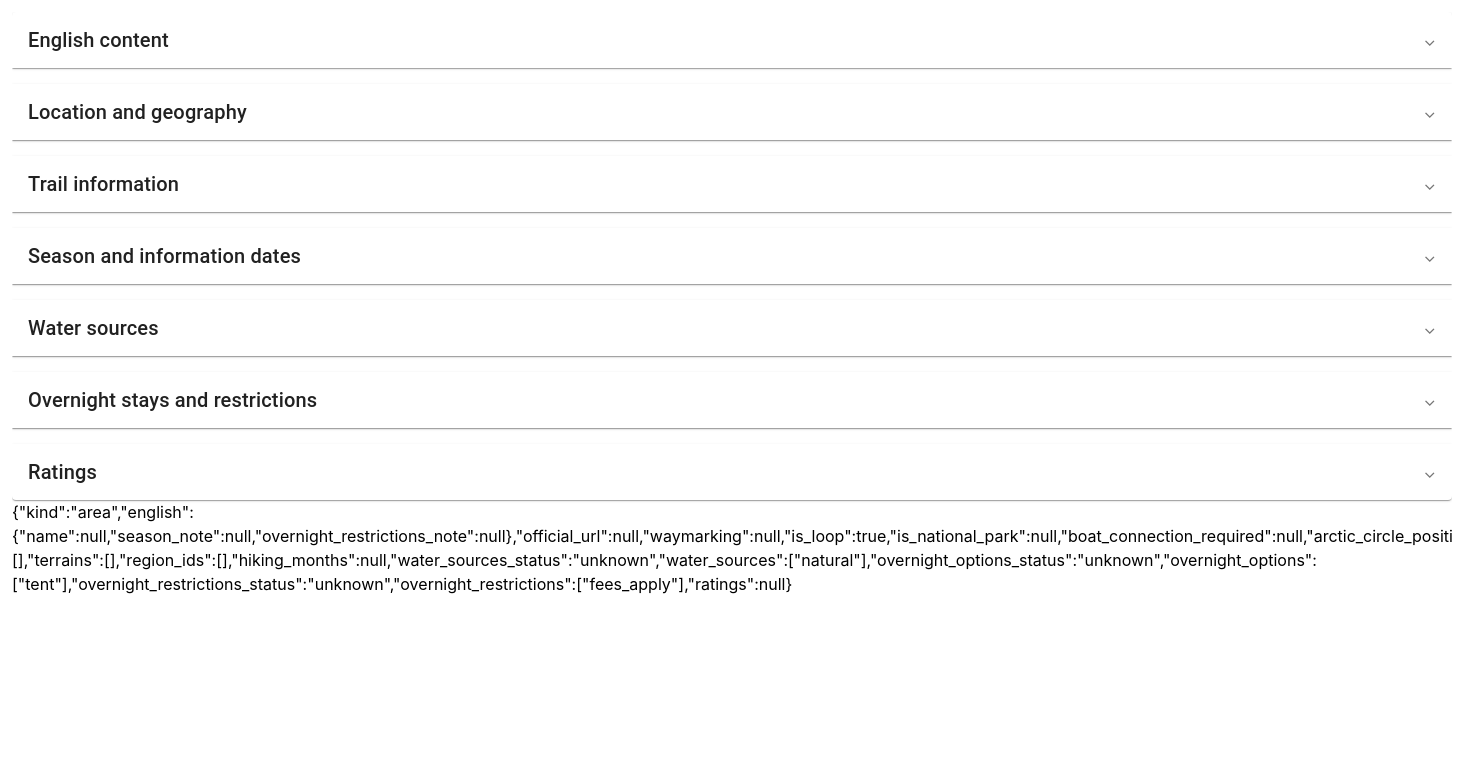
Test: unknown practical information hides options and submission clears invalid dependencies without mutating drafts
This screenshot has width=1464, height=774.
Click the button "Water sources ⌄" at (93, 328), box [12,300,1452,356]
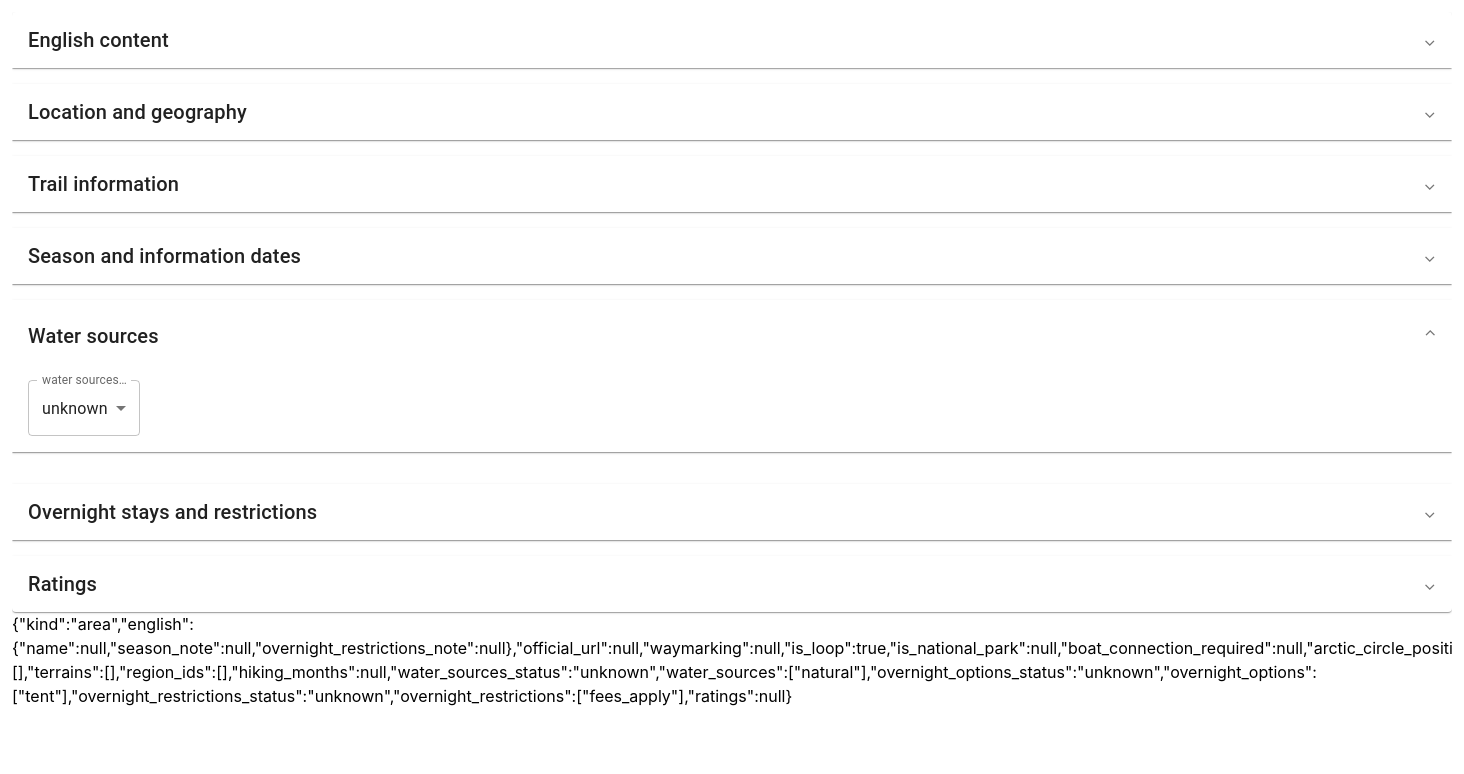
Press the mouse on the dropdown named "water sources status" at (75, 408), box [42,398,108,418]
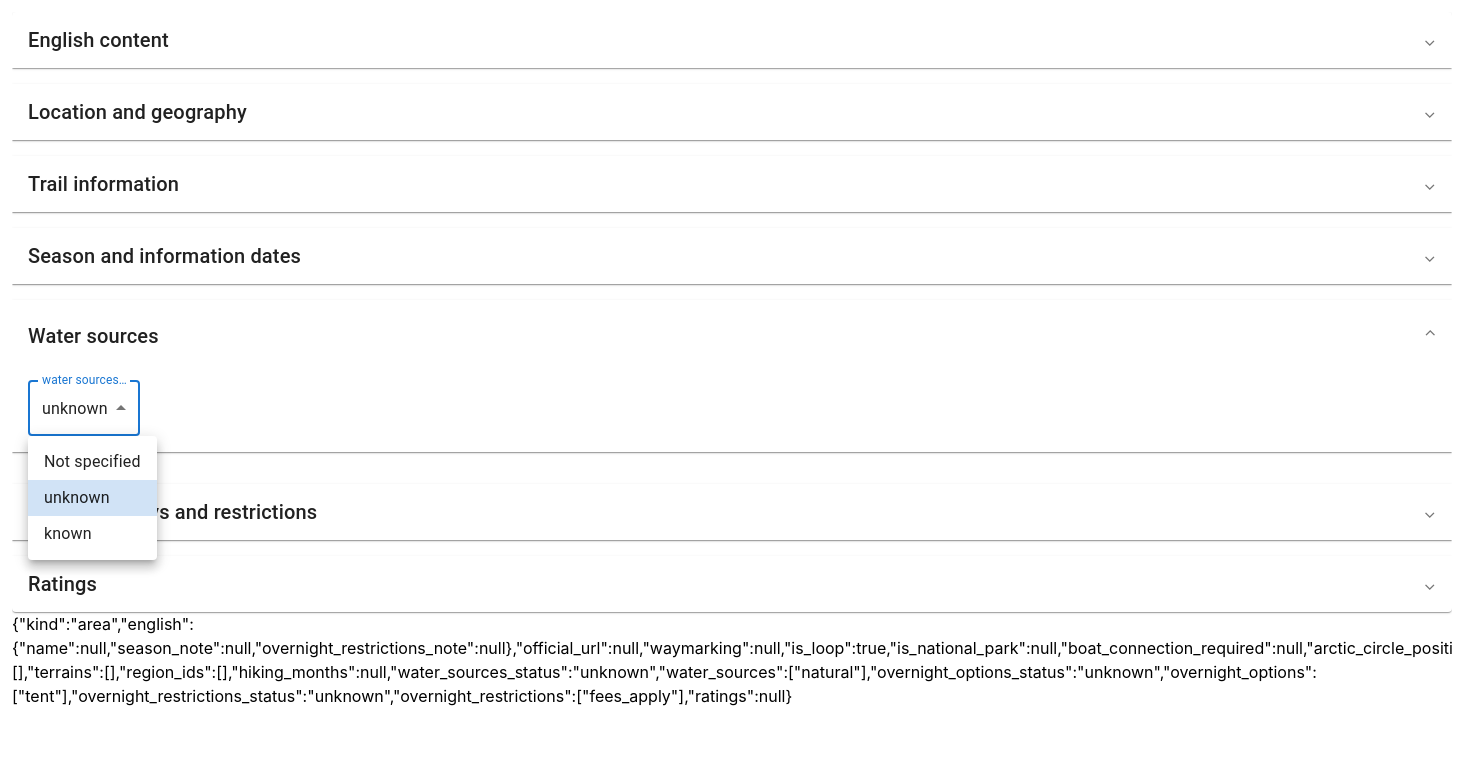
Click the option "known" at (68, 534), box [44,524,92,543]
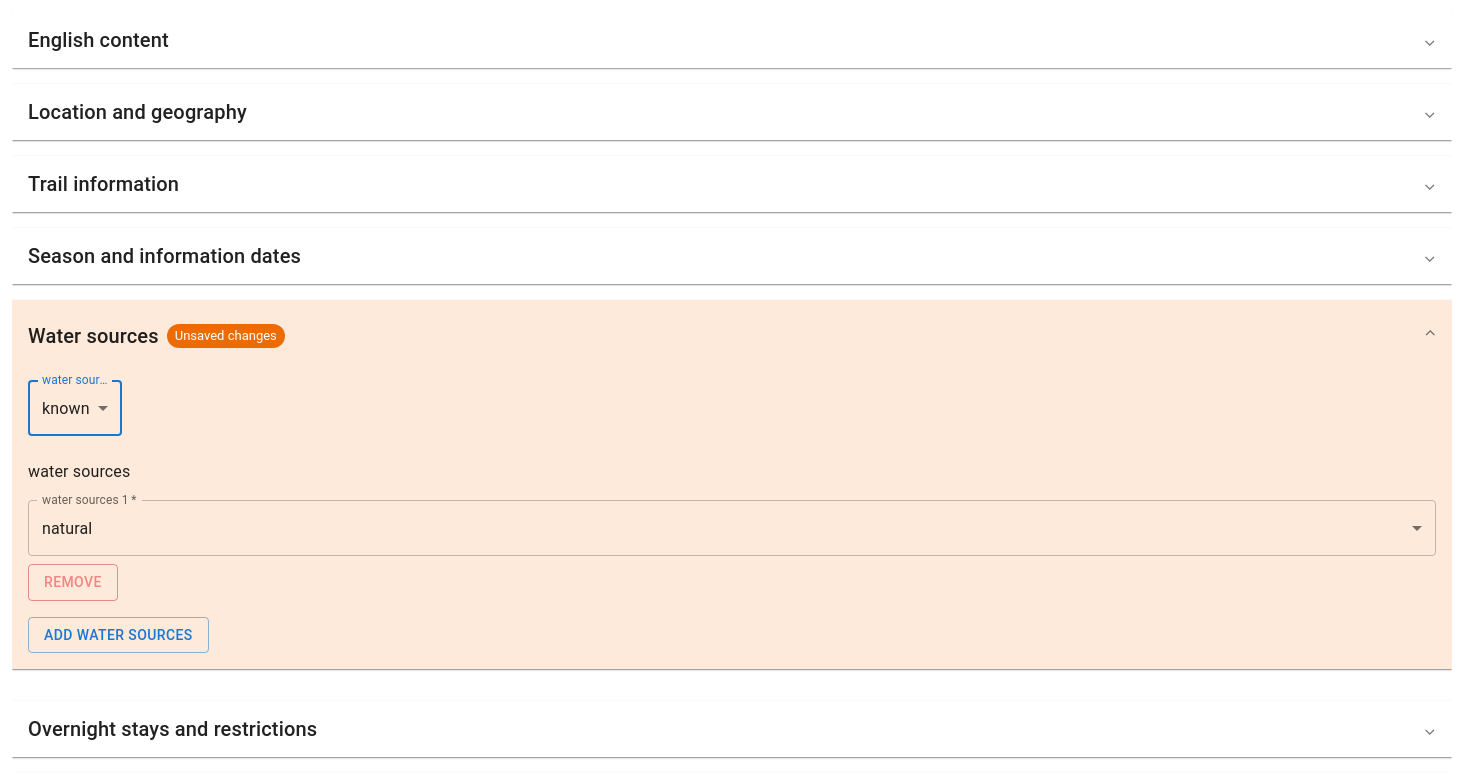
Now the dropdown named "water sources 1" reads "natural", box [42,518,92,538]
